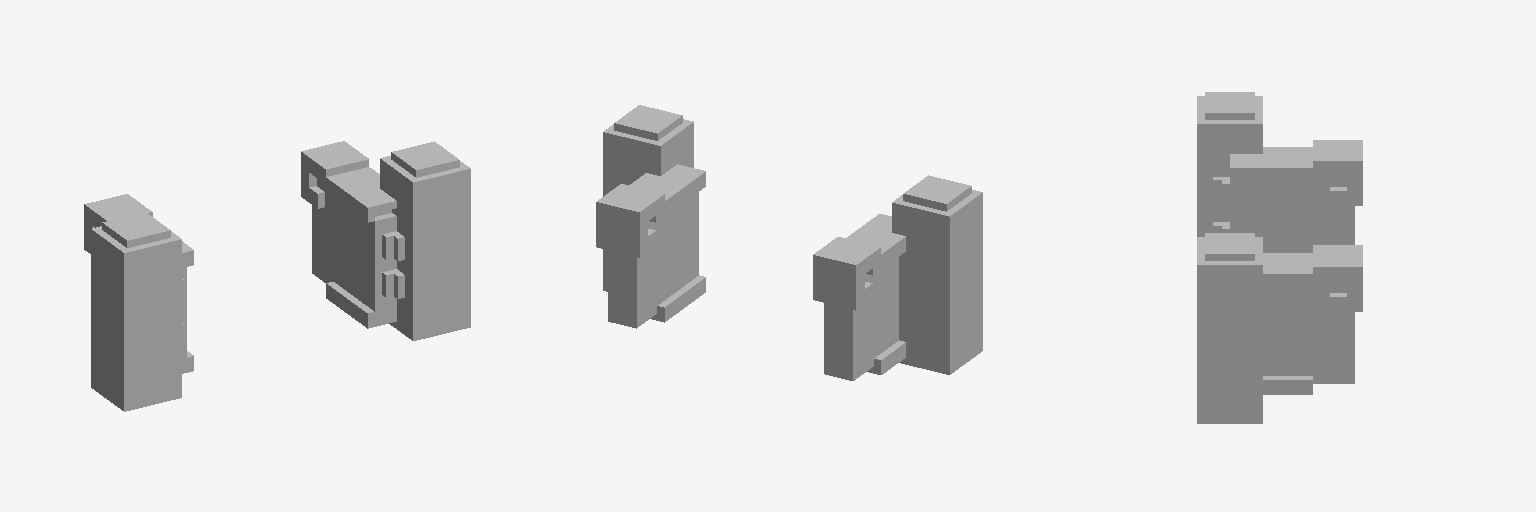
File: Stone Fence Gate Open.obj
3 renders of one model, left to right at view 1: azimuth 30°, elevation 25°; view 2: azimuth 150°, elevation 25°; view 3: azimuth 270°, elevation 25°, orthographic.
Parts seen in each view (by area): view 1: object 1; view 2: object 1; view 3: object 1.
Boxes of the visible parts, x1,y1,x2,y2 form: object 1: [84, 141, 470, 411]; object 1: [596, 105, 982, 380]; object 1: [1197, 92, 1362, 423].
Bounding box in the file's own units: 4.8 × 2.2 × 2.